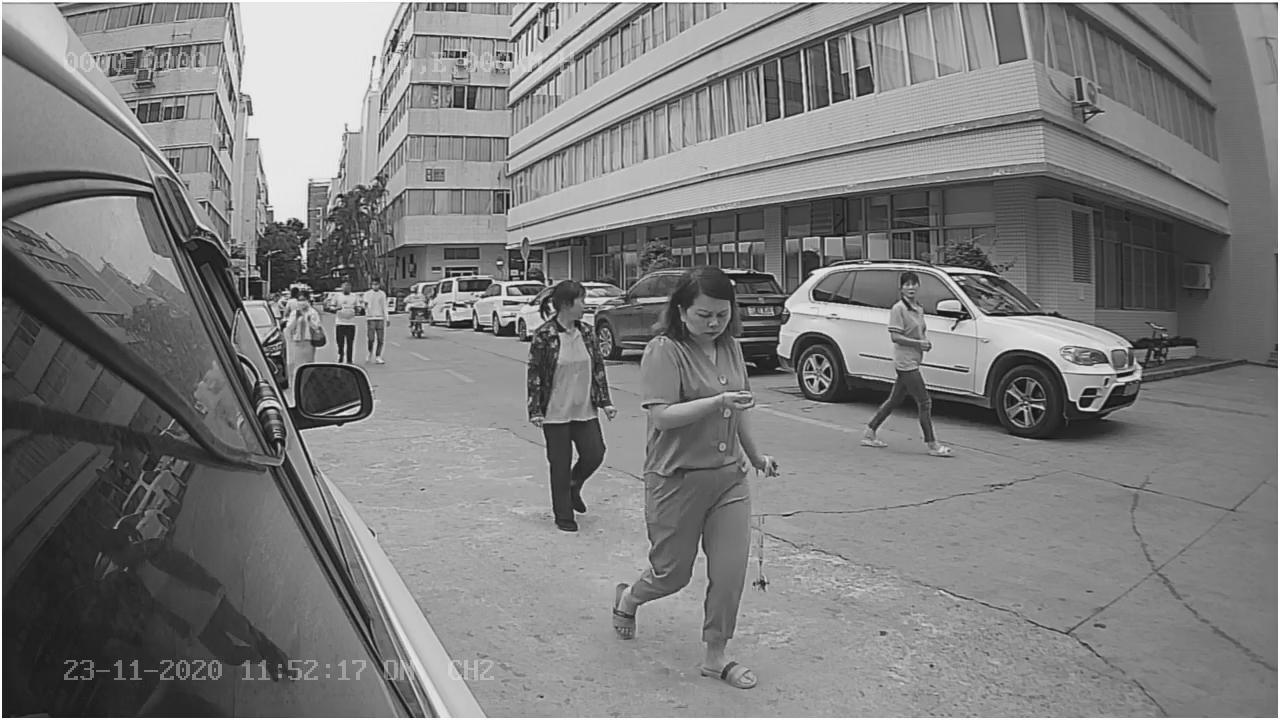person: (623, 274, 774, 678), (522, 280, 615, 529), (870, 261, 945, 450)
